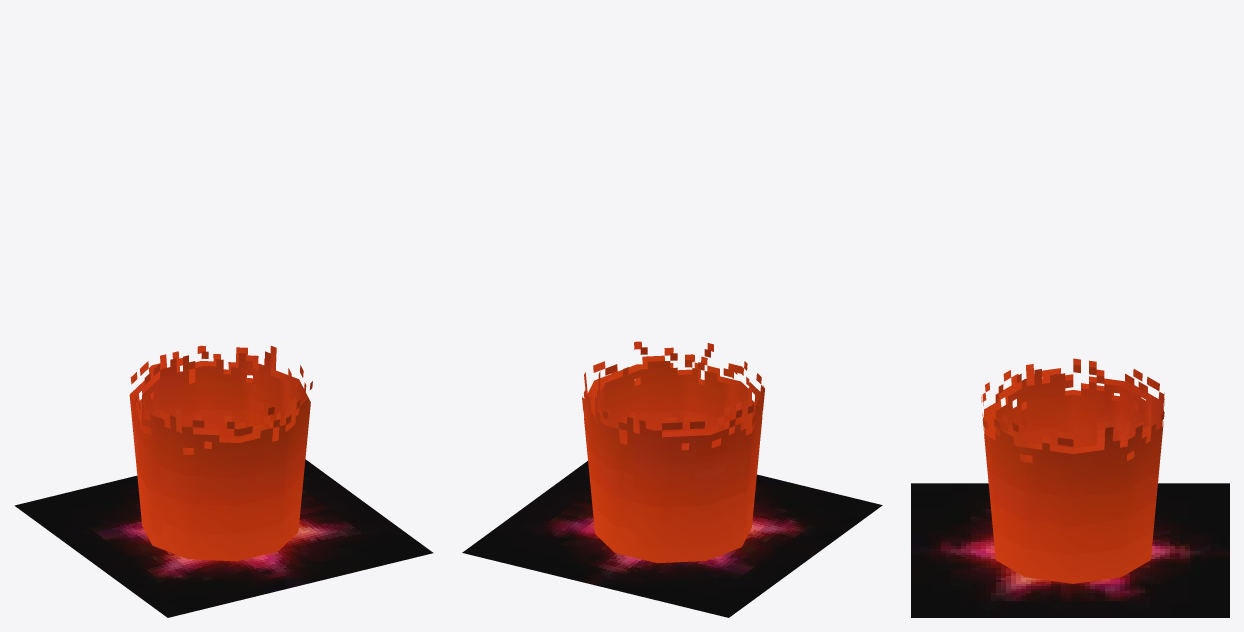
Rendered from EVT_SPAWN_01.glb.
The picture shows the model from 3 angles, left to right: view 1: azimuth 30°, elevation 25°; view 2: azimuth 150°, elevation 25°; view 3: azimuth 270°, elevation 25°; orthographic projection. The views are drawn at different scales.
Visible parts, largest first — view 1: Mesh; view 2: Mesh; view 3: Mesh.
Boxes of the visible parts, x1=… form: Mesh: x1=14, y1=345, x2=433, y2=617; Mesh: x1=462, y1=341, x2=882, y2=617; Mesh: x1=911, y1=358, x2=1229, y2=617.
Size of the model in its own units: 1.2 by 2 by 1.2.
2 materials, 2 textured.
